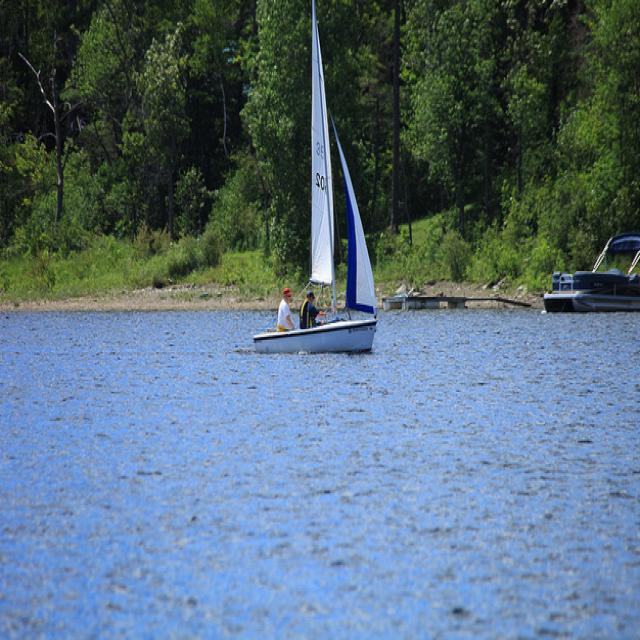navalvessels: (247, 0, 386, 364)
